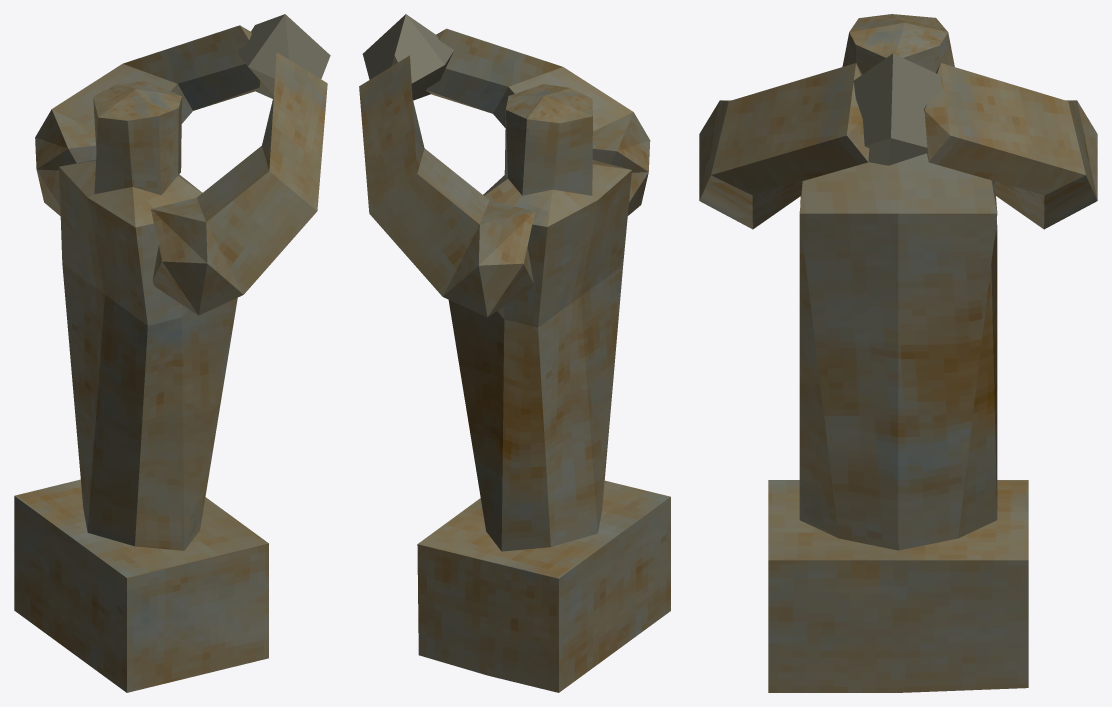
The model's file is cavaleiro_maos_alto.fbx.
3 views of the same model, side by side, from view 1: azimuth 30°, elevation 25°; view 2: azimuth 150°, elevation 25°; view 3: azimuth 270°, elevation 25° (orthographic). The views are drawn at different scales.
Visible parts, largest first — view 1: Cube.001, Esfera icosaédrica.001, Cubo.004; view 2: Cube.001, Esfera icosaédrica.001, Cubo.004; view 3: Cube.001, Esfera icosaédrica.001, Cubo.004.
Boxes of the visible parts, box(x1,y1,x2,y2) form: Cube.001: box(14, 80, 268, 692); Esfera icosaédrica.001: box(35, 25, 327, 315); Cubo.004: box(237, 14, 330, 98); Cube.001: box(417, 84, 670, 692); Esfera icosaédrica.001: box(359, 28, 650, 317); Cubo.004: box(362, 14, 454, 100); Cube.001: box(768, 14, 1028, 692); Esfera icosaédrica.001: box(699, 63, 1097, 229); Cubo.004: box(853, 53, 942, 165).
Size of the model in its own units: 361 by 790 by 420.
